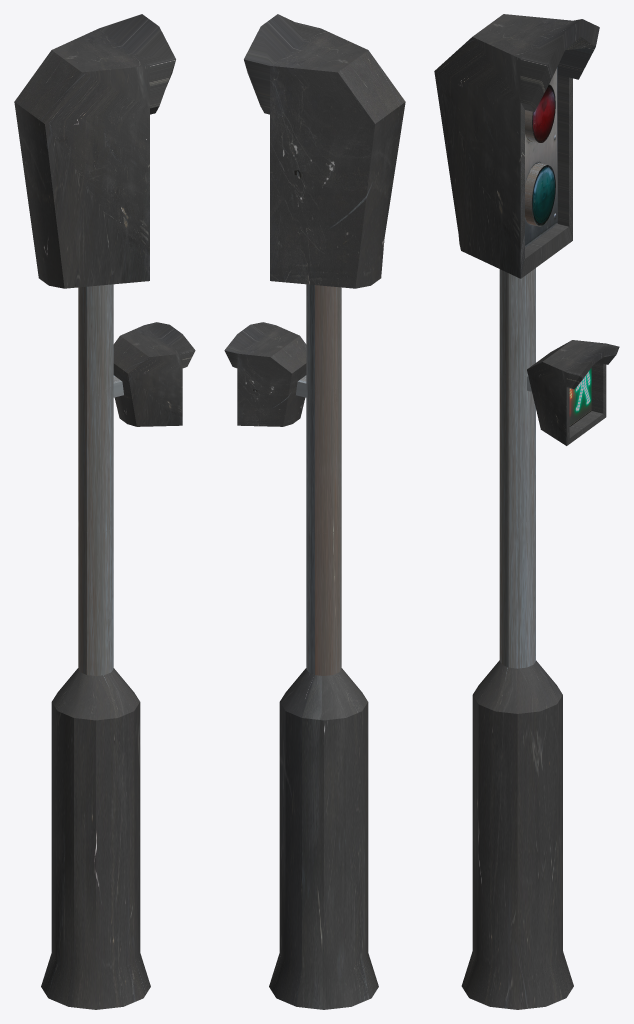
File: feu.fbx
The picture shows the model from 3 angles, left to right: view 1: azimuth 30°, elevation 25°; view 2: azimuth 150°, elevation 25°; view 3: azimuth 330°, elevation 25°; orthographic projection. The views are drawn at different scales.
Visible parts, largest first — view 1: feu; view 2: feu; view 3: feu.
Part boxes in pixels (x1,y1,x2,y2): feu: (14,14,195,1009); feu: (224,14,405,1009); feu: (434,14,619,1009).
Size of the model in its own units: 11.49 by 71.36 by 7.47.
4 materials, 4 textured.
